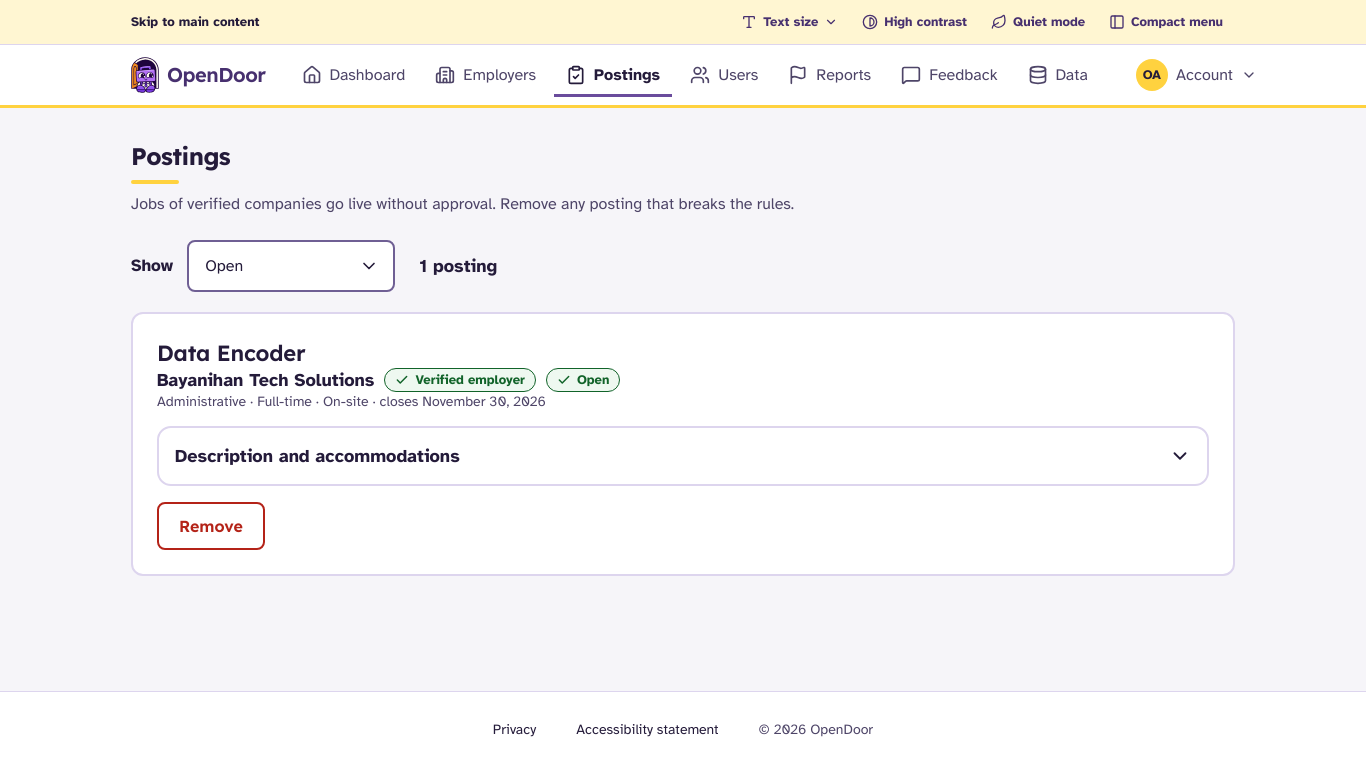
AdminPostingsPage › removes an open posting only with a reason
Click the button with aria-label "Remove Data Encoder".
click(211, 526)  # box [157,502,265,550]
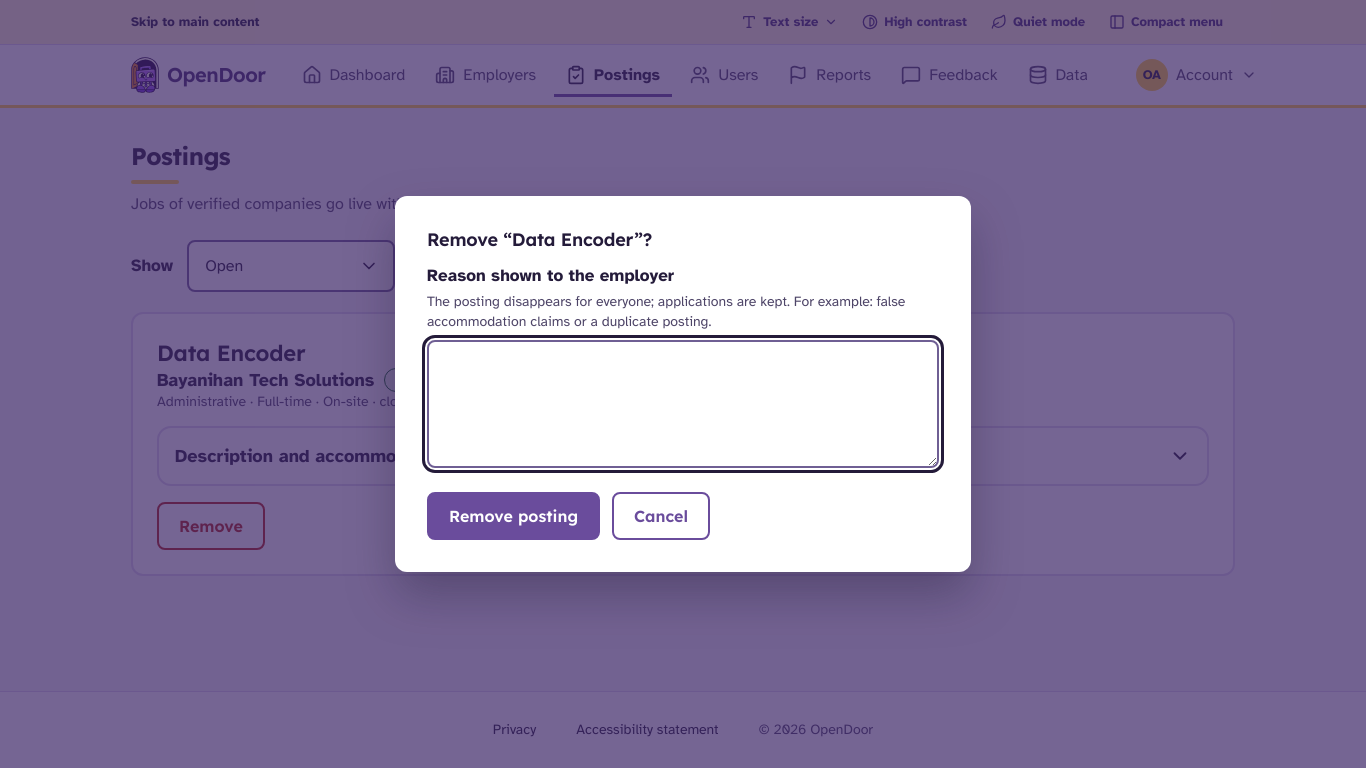
Click the button "Remove posting".
click(514, 516)  # box [427,492,600,540]
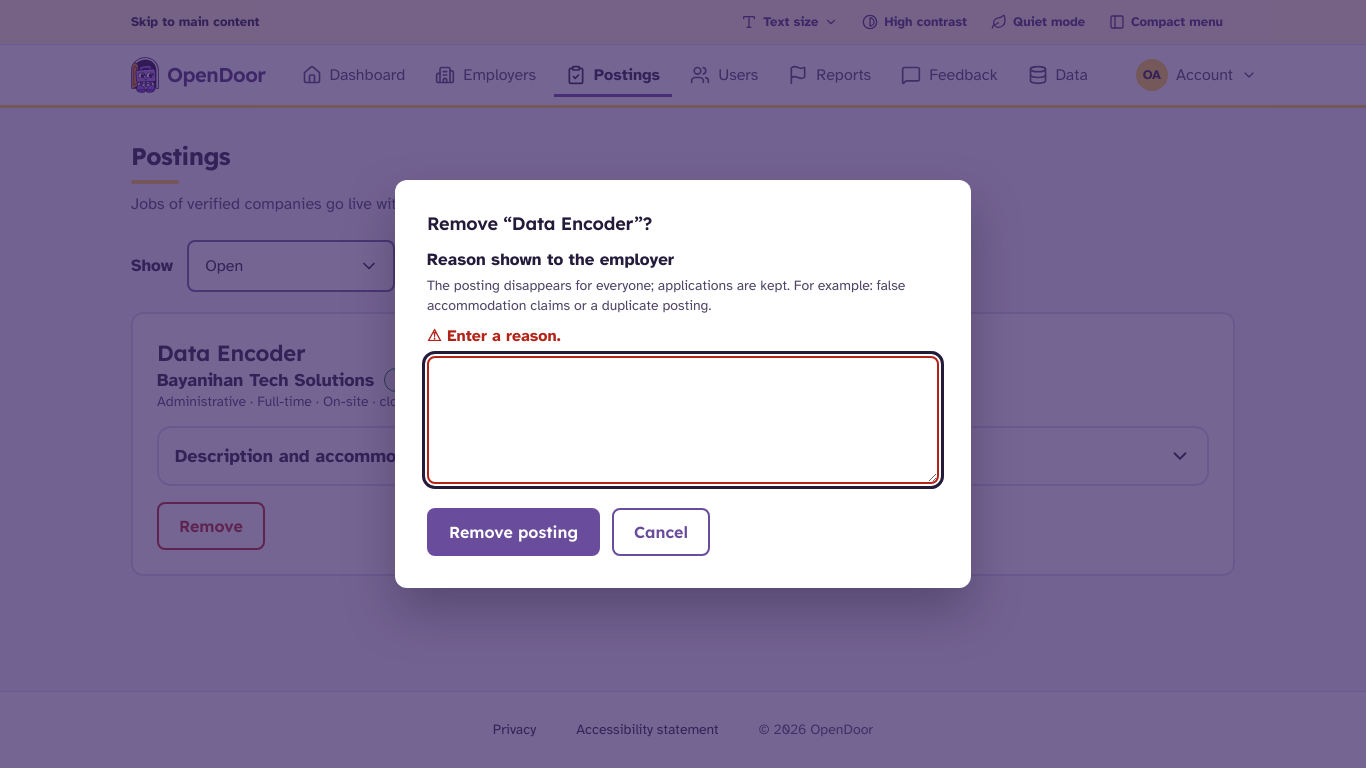
Expected: the message shows "Enter a reason.", [447,326,560,346]
Type "False accommodation claims." into the text box labelled "Reason shown to the employer".
click(683, 420); type("False accommodation claims.")  # box [427,356,939,484]
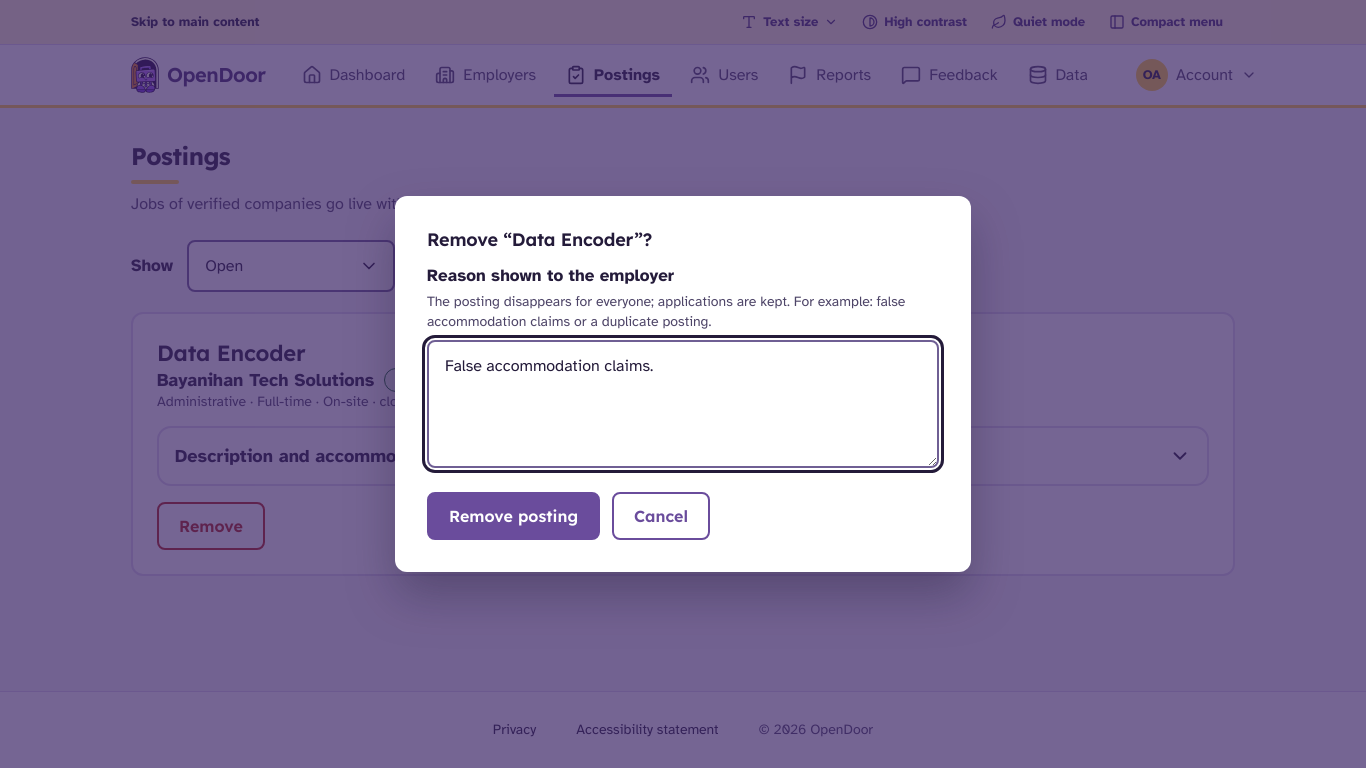
Click the button "Remove posting".
click(514, 516)  # box [427,492,600,540]
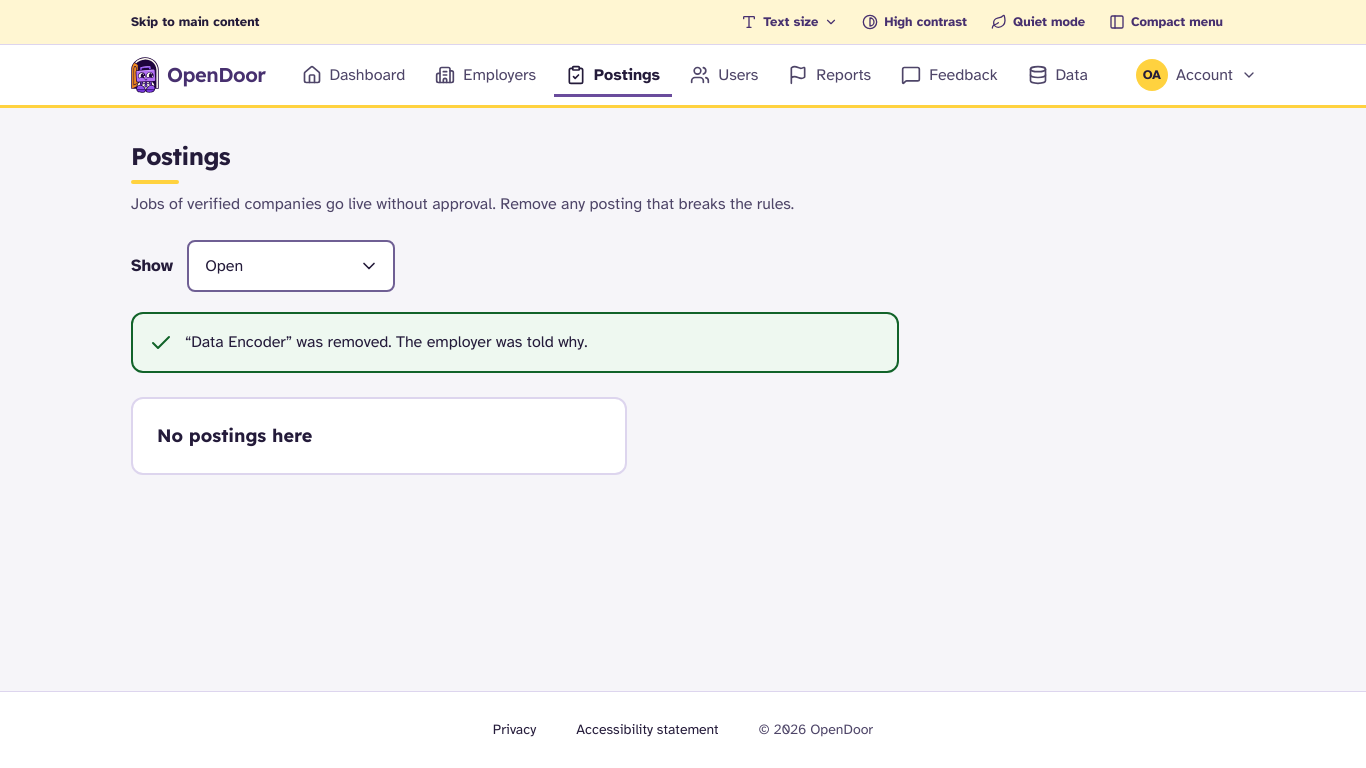
Expected: the text "“Data Encoder” was removed. The employer was told why." is shown, [185,330,588,354]
Expected: the text "No postings here" is shown, [157,423,312,449]
